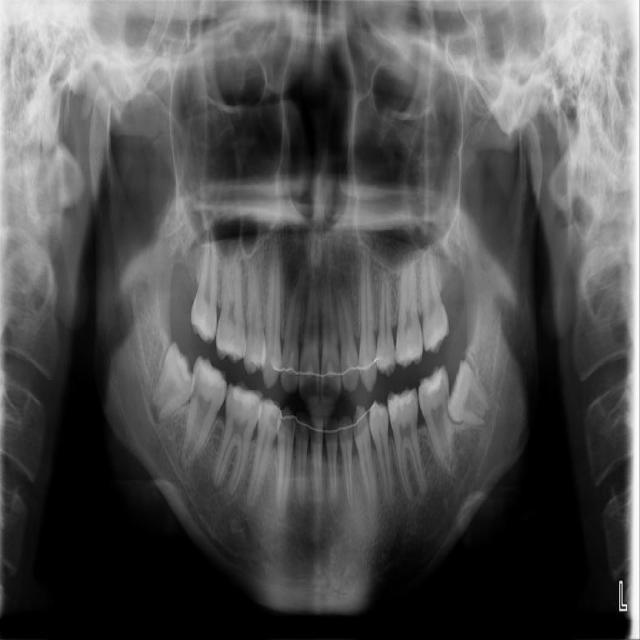Filling: (387, 390, 418, 419), (200, 360, 225, 391), (423, 323, 447, 353), (230, 388, 259, 411), (420, 370, 441, 396)
